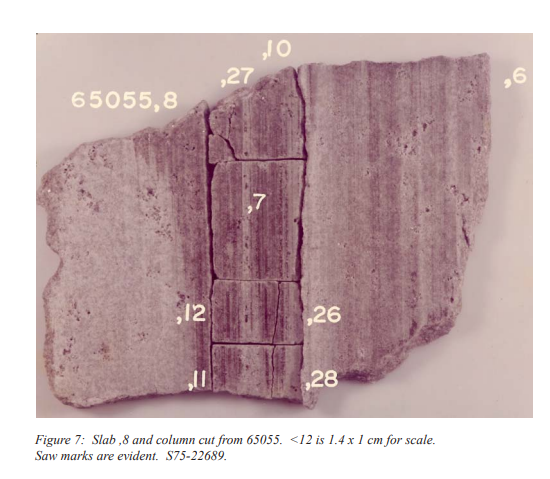Basalt: (306, 53, 479, 383), (45, 99, 213, 393), (230, 86, 309, 405)
